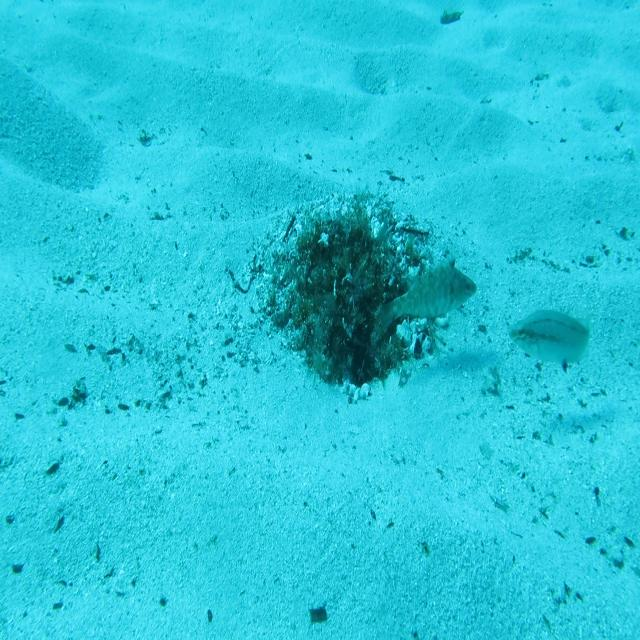ROLL: (378, 248, 478, 334)
core_nest: (324, 229, 367, 281)
female: (508, 300, 592, 374)
nest: (240, 172, 458, 418)
vegetation: (438, 11, 462, 29), (309, 606, 330, 626)
